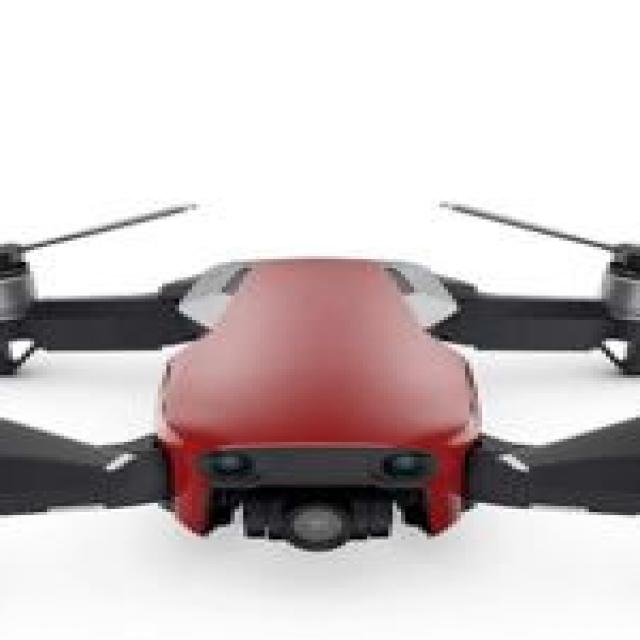drone: (0, 189, 640, 628)
